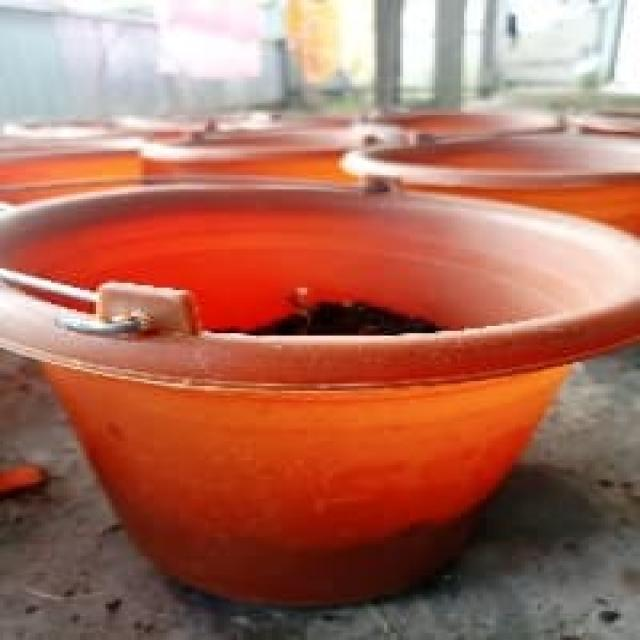HDPE Plastic: (0, 184, 640, 608), (344, 134, 640, 221), (138, 131, 361, 178), (0, 136, 135, 190)
